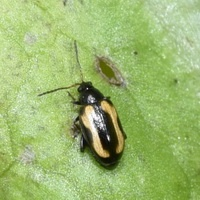insect: (38, 41, 125, 167)
